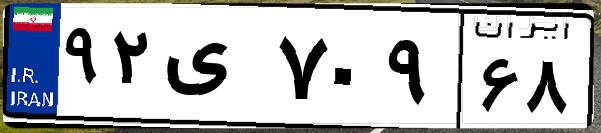0: (330, 28, 385, 110)
2: (110, 28, 158, 98)
6: (475, 38, 525, 113)
7: (270, 28, 330, 110)
8: (525, 38, 570, 115)
9: (385, 28, 445, 110), (57, 26, 110, 100)
ی: (158, 20, 270, 120)
